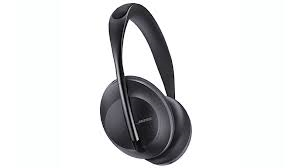headphone: (96, 1, 192, 166)
